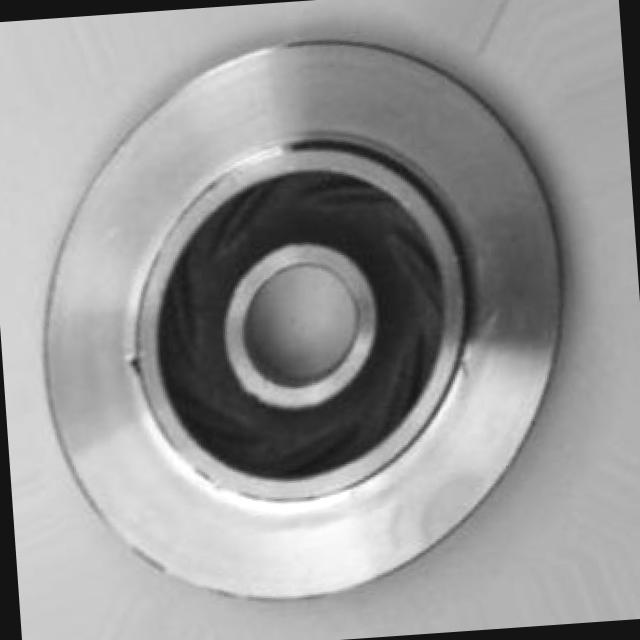Defect: (118, 349, 146, 378)
